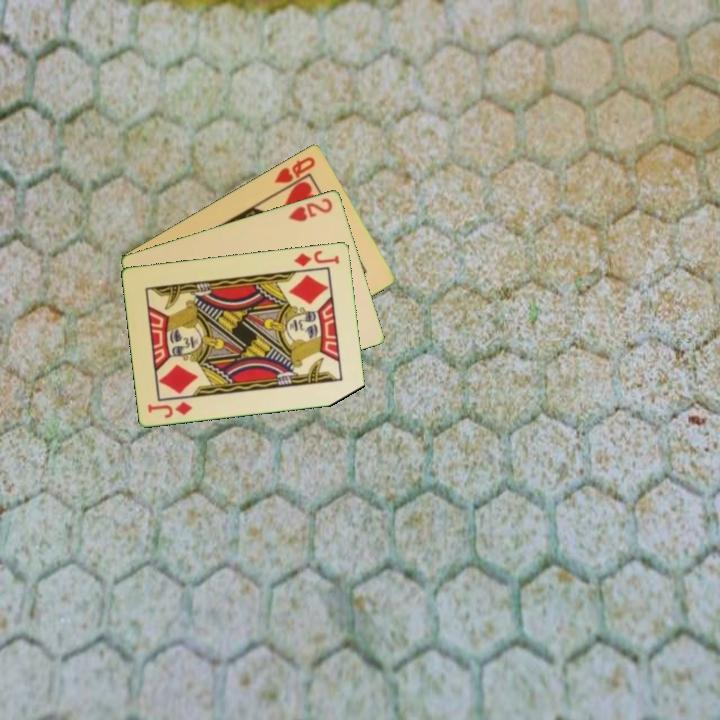2h: (284, 194, 335, 224)
Jd: (291, 246, 342, 269), (145, 398, 196, 421)
Qh: (271, 153, 318, 194)
